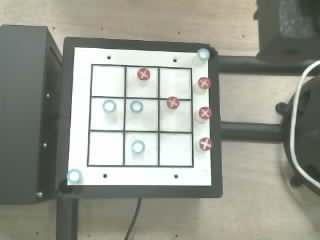blue circle: (67, 169, 81, 183), (103, 100, 117, 113), (131, 140, 144, 152), (130, 100, 143, 112), (198, 48, 210, 60)
board: (67, 46, 212, 186)
cells: (89, 132, 122, 165), (125, 133, 157, 165), (160, 134, 192, 165), (91, 98, 123, 129), (126, 99, 157, 130), (92, 66, 124, 96), (160, 101, 192, 131), (160, 68, 191, 98), (127, 67, 157, 97)
grid: (87, 64, 193, 167)
red cross: (199, 107, 212, 120), (166, 96, 179, 109), (199, 138, 212, 150), (137, 68, 150, 79), (198, 77, 211, 88)
